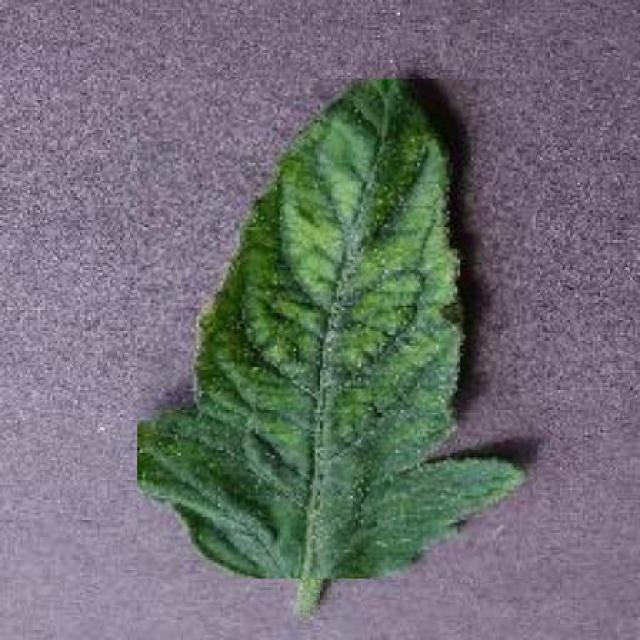Mosaic Virus: (137, 79, 537, 578)
